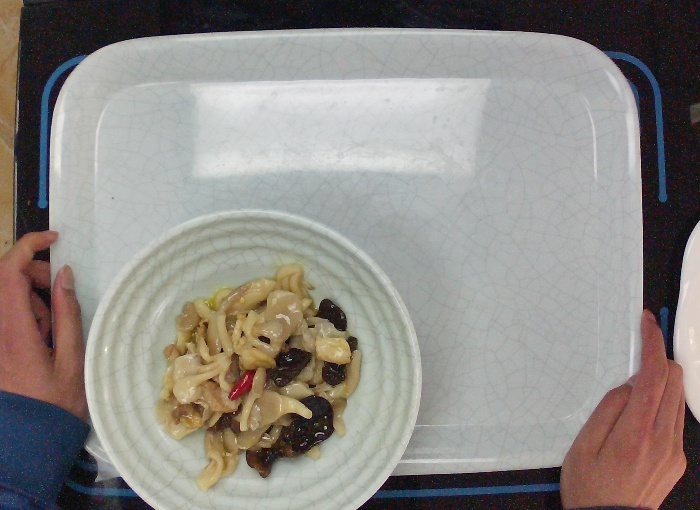JYsf-Da_Tang_Wan: (82, 205, 424, 510)
